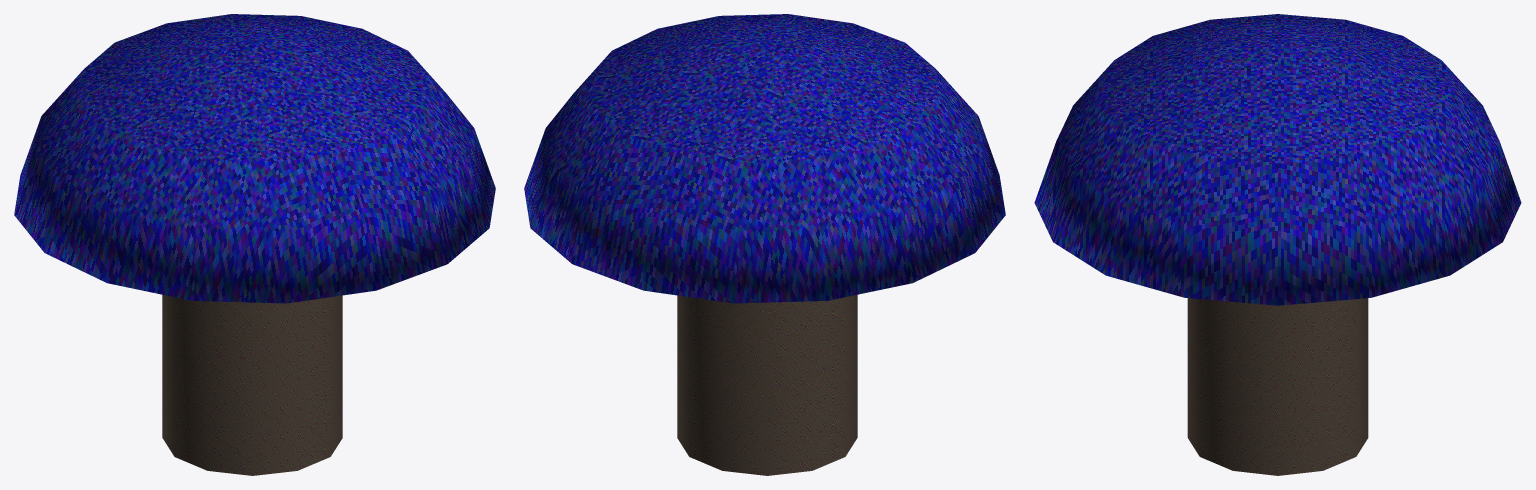
The picture shows the model from 3 angles, left to right: view 1: azimuth 30°, elevation 25°; view 2: azimuth 150°, elevation 25°; view 3: azimuth 270°, elevation 25°; orthographic projection.
Visible parts, largest first — view 1: it402; view 2: it402; view 3: it402.
Boxes of the visible parts, left/top/right/bottom form: it402: left=14, top=14, right=495, bottom=475; it402: left=524, top=14, right=1005, bottom=475; it402: left=1034, top=14, right=1521, bottom=475.
Bounding box in the file's own units: 0.5176 × 0.4658 × 0.5176.
Materials: 3 (3 with a texture image).
